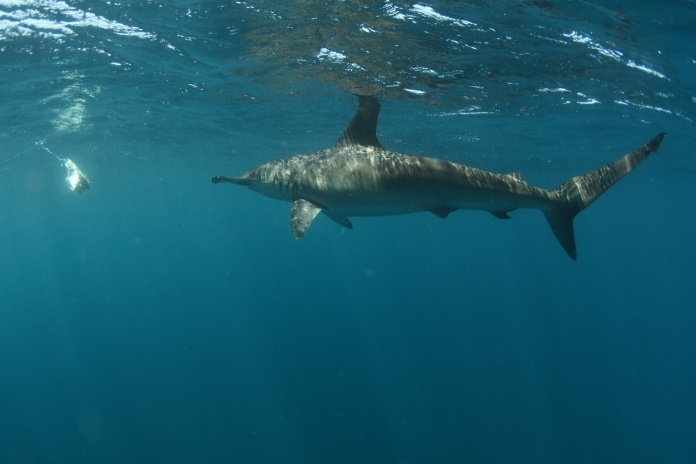Hammer: (207, 75, 680, 305)
